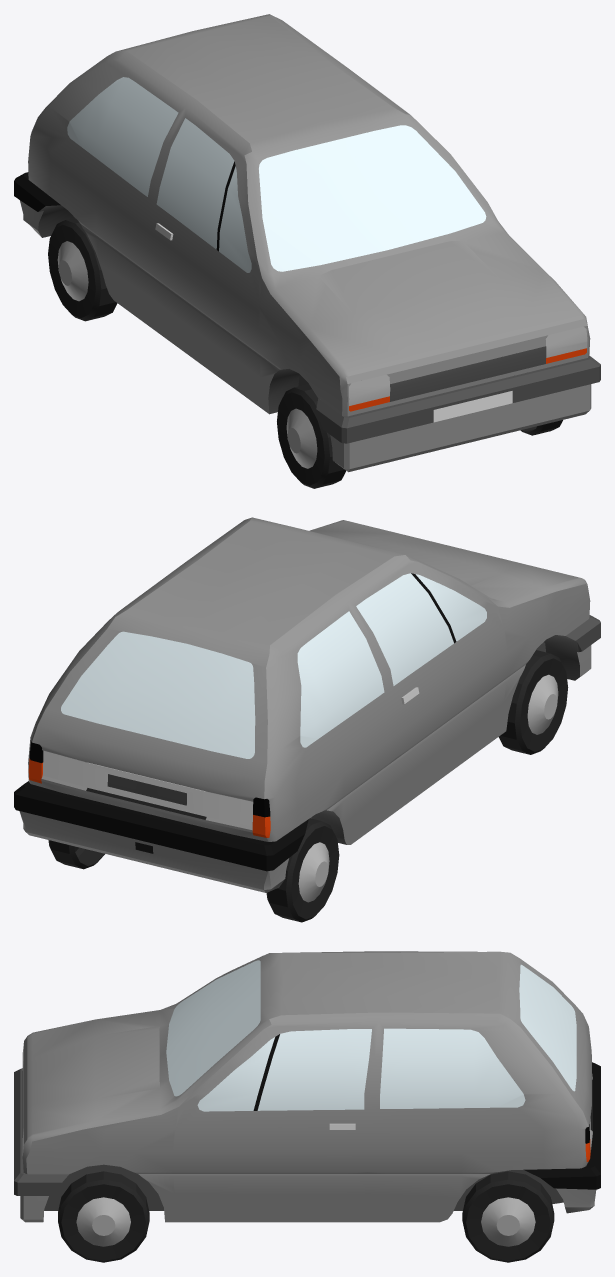
Rendered from TrafficCar4.FBX.
3 renders of one model, top to bottom at view 1: azimuth 30°, elevation 25°; view 2: azimuth 150°, elevation 25°; view 3: azimuth 270°, elevation 25°, orthographic. The views are drawn at different scales.
Visible parts, largest first — view 1: PaintableBody, NotPaintableBody, Wheel_RR, Wheel_FR; view 2: PaintableBody, NotPaintableBody, Wheel_FR, Wheel_RR, Wheel_RL; view 3: PaintableBody, NotPaintableBody, Wheel_RL, Wheel_FL.
Part boxes in pixels (bbox=[...]): PaintableBody: bbox=[20, 14, 591, 472]; NotPaintableBody: bbox=[14, 77, 600, 443]; Wheel_RR: bbox=[48, 217, 117, 321]; Wheel_FR: bbox=[277, 384, 345, 488]; PaintableBody: bbox=[19, 517, 591, 892]; NotPaintableBody: bbox=[14, 573, 600, 871]; Wheel_FR: bbox=[499, 650, 568, 754]; Wheel_RR: bbox=[266, 818, 339, 922]; Wheel_RL: bbox=[48, 840, 104, 869]; PaintableBody: bbox=[20, 951, 596, 1222]; NotPaintableBody: bbox=[14, 960, 600, 1210]; Wheel_RL: bbox=[462, 1171, 554, 1262]; Wheel_FL: bbox=[58, 1171, 149, 1262].
Bounding box in the file's own units: 62.39 × 60.04 × 138.
Materials: 6 (5 with a texture image).
